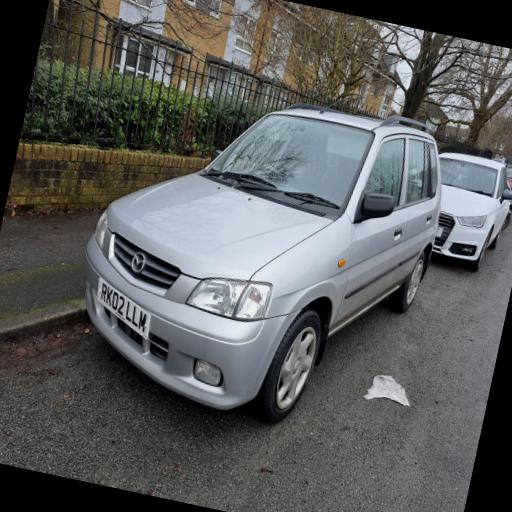numberplates: (89, 277, 158, 339), (435, 226, 443, 238)
